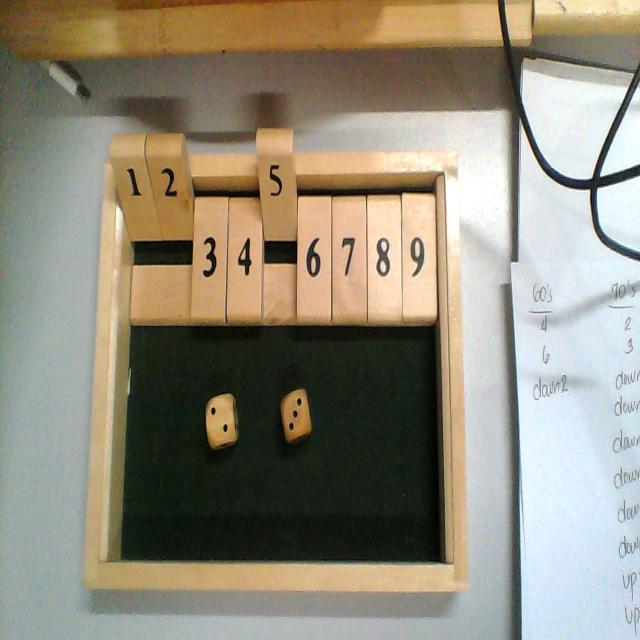2: (200, 388, 246, 457)
3: (275, 386, 319, 449)
O1: (110, 135, 162, 326)
O2: (146, 134, 191, 328)
O5: (257, 127, 298, 322)
